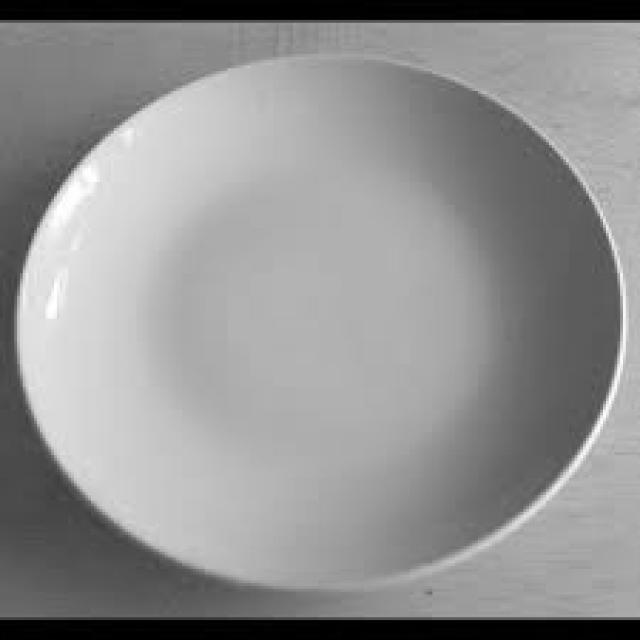dish: (10, 24, 640, 608)
